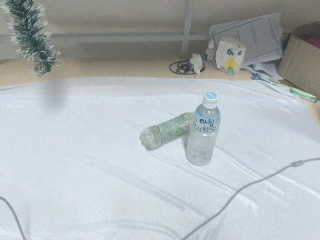bottle: (183, 92, 222, 166), (139, 110, 193, 151)
box: (277, 20, 320, 103)
